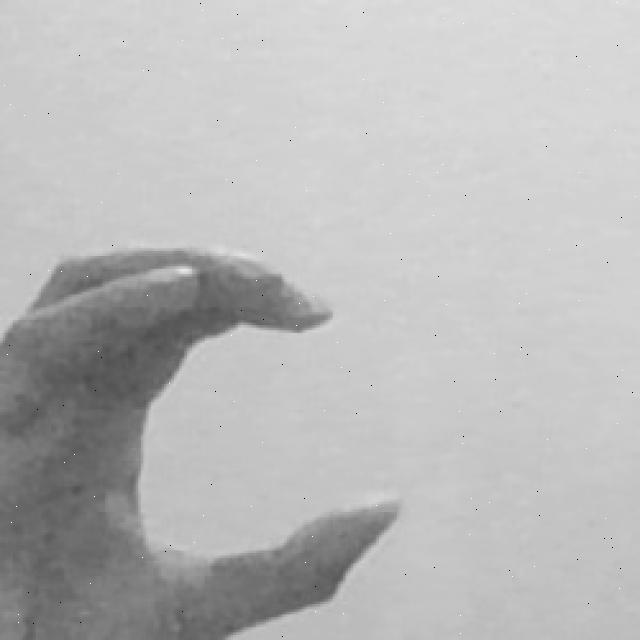C: (1, 245, 404, 640)
